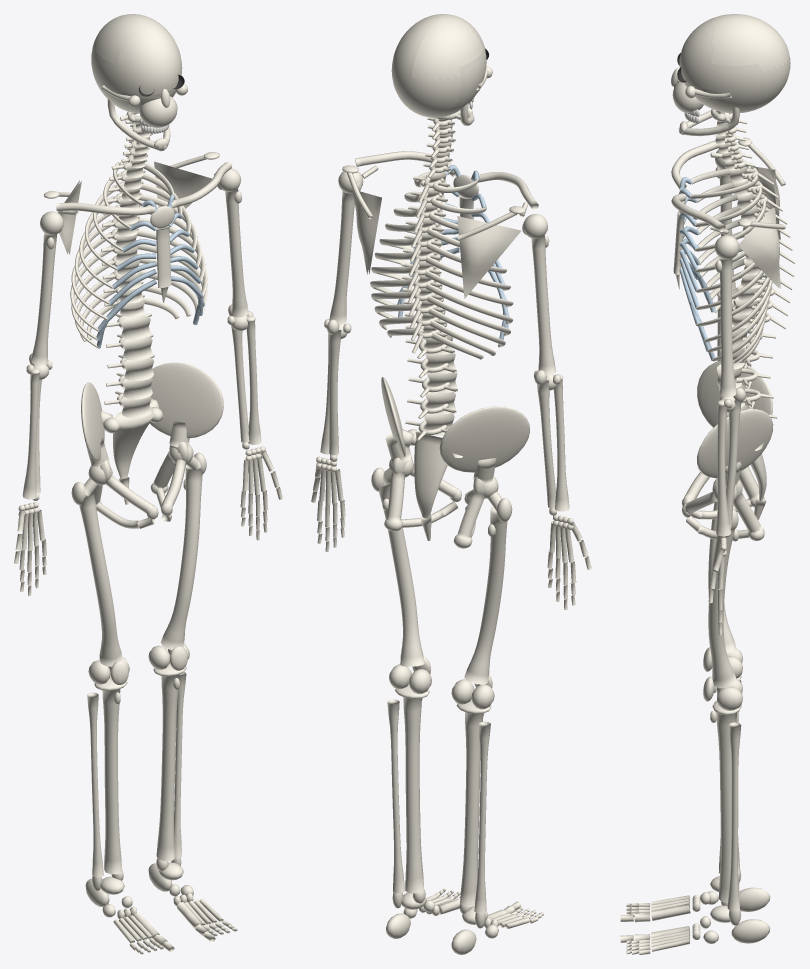
The model's file is SKELETON.glb.
3 renders of one model, left to right at view 1: azimuth 30°, elevation 25°; view 2: azimuth 150°, elevation 25°; view 3: azimuth 270°, elevation 25°, orthographic. The views are drawn at different scales.
Parts seen in each view (by area): view 1: ilium_L, femur_L, femur_R, skull_frontal, tibia_L, tibia_R, humerus_R, humerus_L, ilium_R, sacrum, fibula_R, skull_parietal_R (+26 smaller); view 2: ilium_R, femur_R, femur_L, tibia_L, tibia_R, skull_parietal_R, scapula_R, humerus_R, skull_occipital, humerus_L, sacrum, scapula_L (+21 smaller); view 3: skull_parietal_L, ilium_L, femur_L, tibia_L, humerus_L, skull_temporal_L, scapula_L, skull_frontal, fibula_L, ilium_R, radius_L, ulna_L (+24 smaller).
Part boxes in pixels (x1,y1,x2,y2): ilium_L: (149,362,223,462); femur_L: (148,444,206,669); femur_R: (71,465,129,684); skull_frontal: (110,27,182,94); tibia_L: (153,662,186,871); tibia_R: (94,676,127,880); humerus_R: (26,211,63,380); humerus_L: (219,168,253,330); ilium_R: (81,382,112,483); sacrum: (103,407,163,478); fibula_R: (87,692,103,890); skull_parietal_R: (92,15,160,98); ilium_R: (439,406,529,494); femur_R: (451,477,512,709); femur_L: (371,458,431,694); tibia_L: (395,684,429,903); tibia_R: (456,699,491,913); skull_parietal_R: (412,15,483,82); scapula_R: (457,202,528,298); humerus_R: (523,214,560,390); skull_occipital: (391,60,460,117); humerus_L: (324,171,363,338); sacrum: (408,429,447,518); scapula_L: (342,165,381,274); skull_parietal_L: (684,17,789,86); ilium_L: (697,409,773,495); femur_L: (708,486,742,710); tibia_L: (710,700,741,905); humerus_L: (715,235,739,412); skull_temporal_L: (684,64,762,113); scapula_L: (710,207,785,288); skull_frontal: (679,17,717,90); fibula_L: (727,722,741,925); ilium_R: (697,360,773,427); radius_L: (716,400,730,536); ulna_L: (724,387,746,537).
Size of the model in its own units: 0.5642 by 1.78 by 0.3091.
